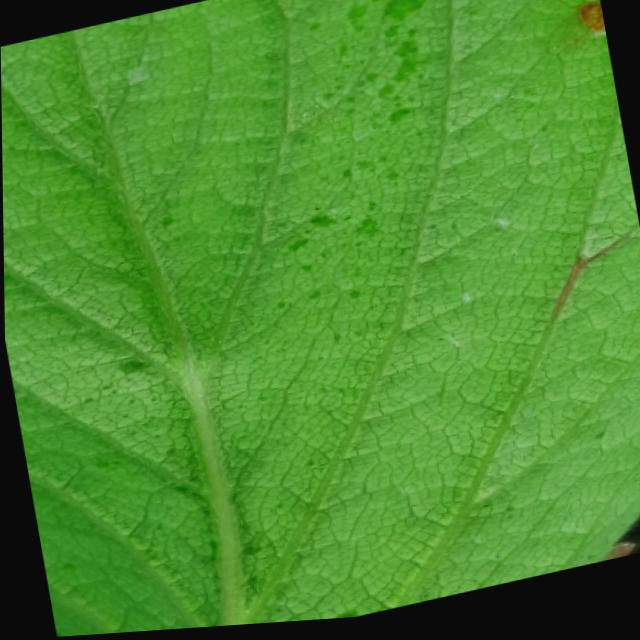Angular Leafspot: (11, 0, 640, 630)
